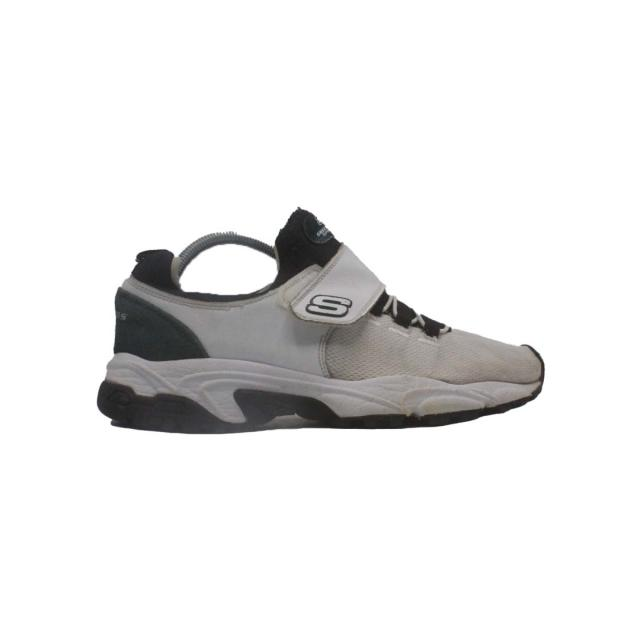heel: (99, 221, 166, 360)
midsole: (88, 348, 545, 427)
uppersole: (167, 206, 550, 384)
